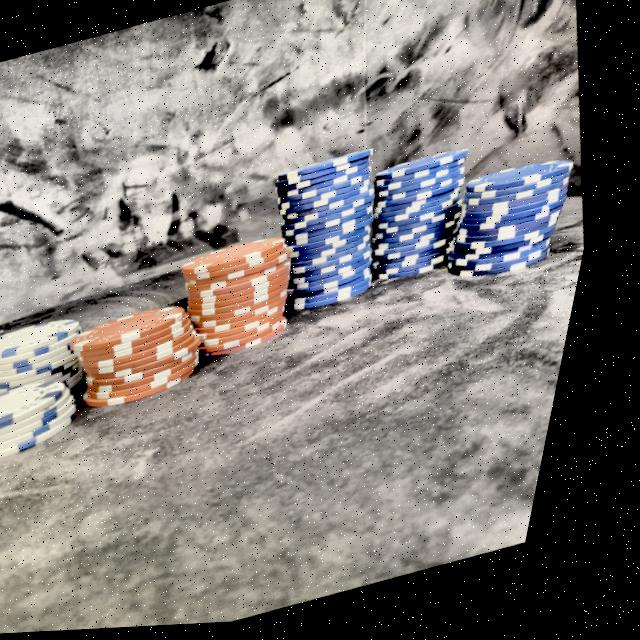Chip: (251, 137, 424, 338), (63, 271, 249, 433), (163, 213, 336, 382), (439, 144, 604, 304), (355, 139, 510, 303), (0, 295, 133, 423), (0, 367, 110, 480)
